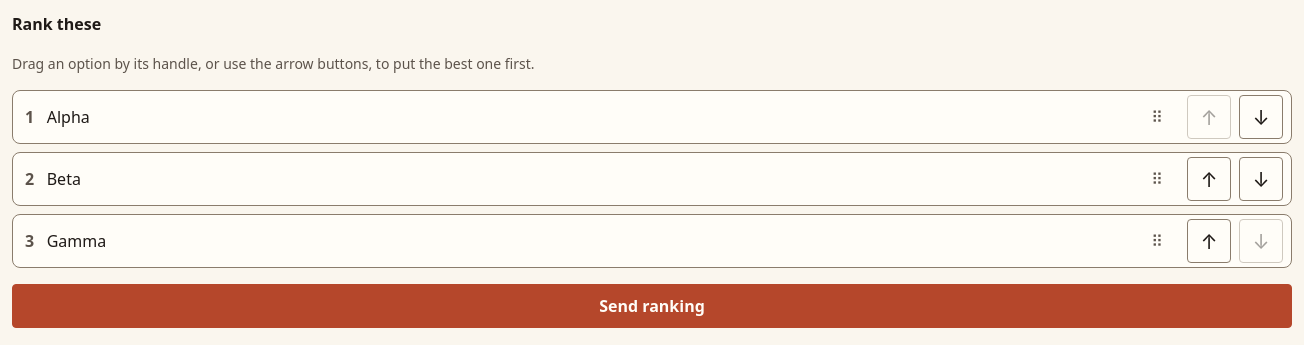
Test: treats a second submit from another device as sent
This screenshot has width=1304, height=345.
Click the button "Send ranking".
click(652, 306)  # box [12,284,1292,328]
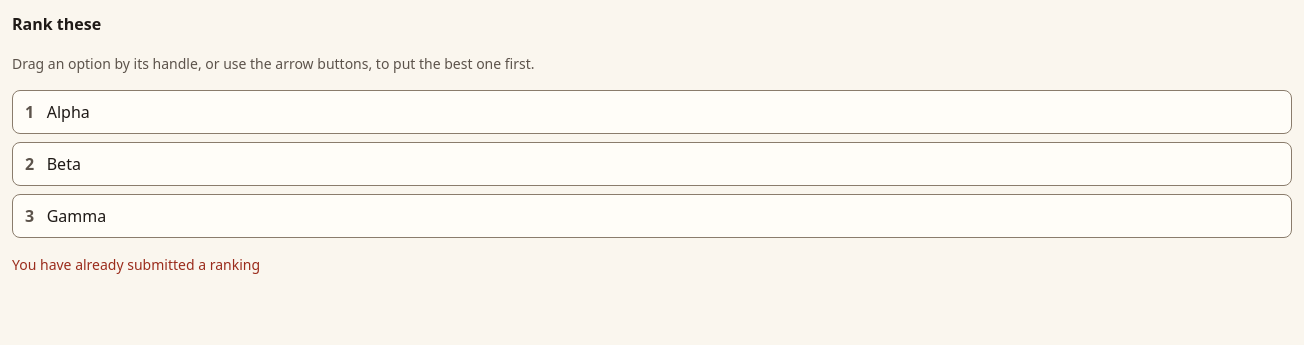
Expected: the button "Send ranking" is gone
